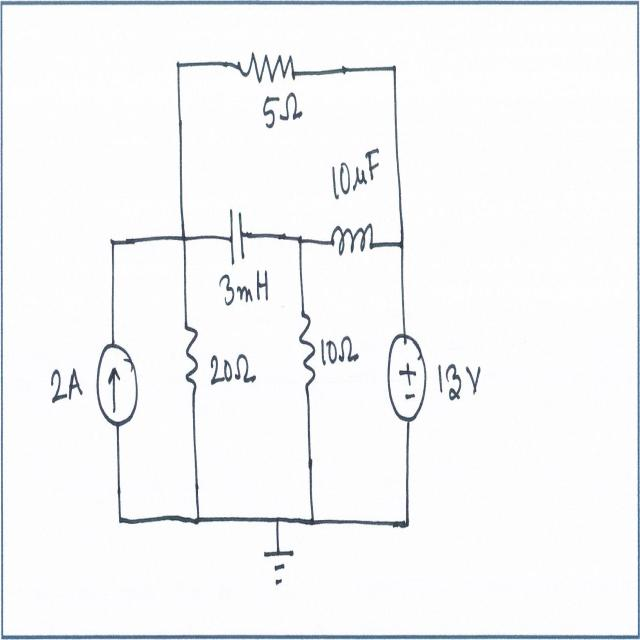capacitor: (225, 201, 248, 270)
current_source: (92, 340, 142, 438)
ground: (262, 543, 300, 592)
inductor: (327, 218, 376, 266)
resistor: (231, 44, 299, 88), (296, 304, 321, 393), (182, 319, 204, 395)
voltage_source: (386, 324, 428, 427)
